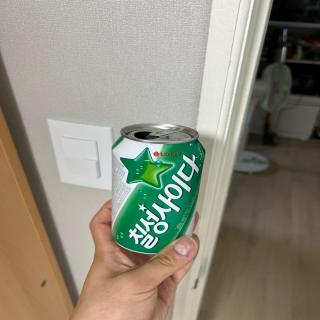cocacola: (108, 122, 207, 258)
